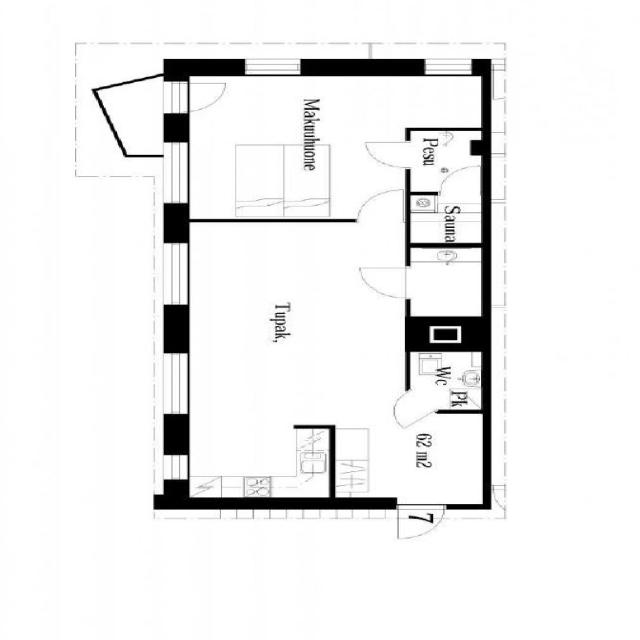door: (412, 131, 488, 196), (392, 369, 461, 424), (352, 260, 419, 302), (388, 502, 448, 542), (350, 186, 406, 226), (358, 136, 418, 173), (172, 78, 232, 114), (388, 389, 441, 429), (434, 164, 486, 198), (154, 78, 194, 117)
window: (150, 235, 197, 316), (151, 346, 196, 424), (153, 136, 197, 212), (236, 56, 309, 76), (414, 54, 478, 76), (156, 450, 193, 486)
zone: (180, 220, 404, 428), (178, 72, 490, 142), (177, 424, 333, 498), (405, 244, 488, 320), (406, 129, 488, 194), (405, 349, 484, 413), (405, 191, 481, 244)
